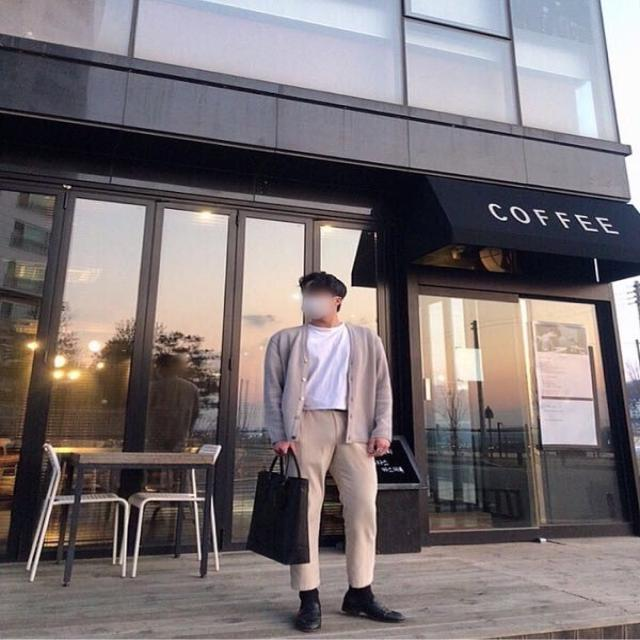cardigan: (264, 321, 395, 444)
cottonpants: (287, 412, 377, 589)
